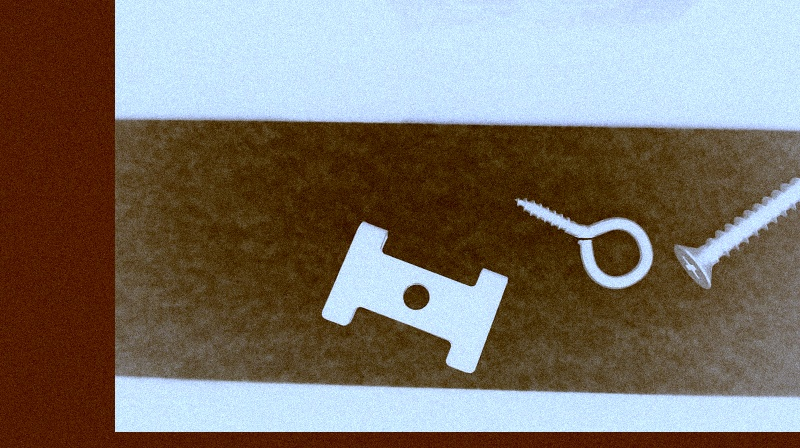O001: (509, 193, 656, 291)
O002: (316, 219, 511, 375)
S001: (668, 167, 799, 293)
